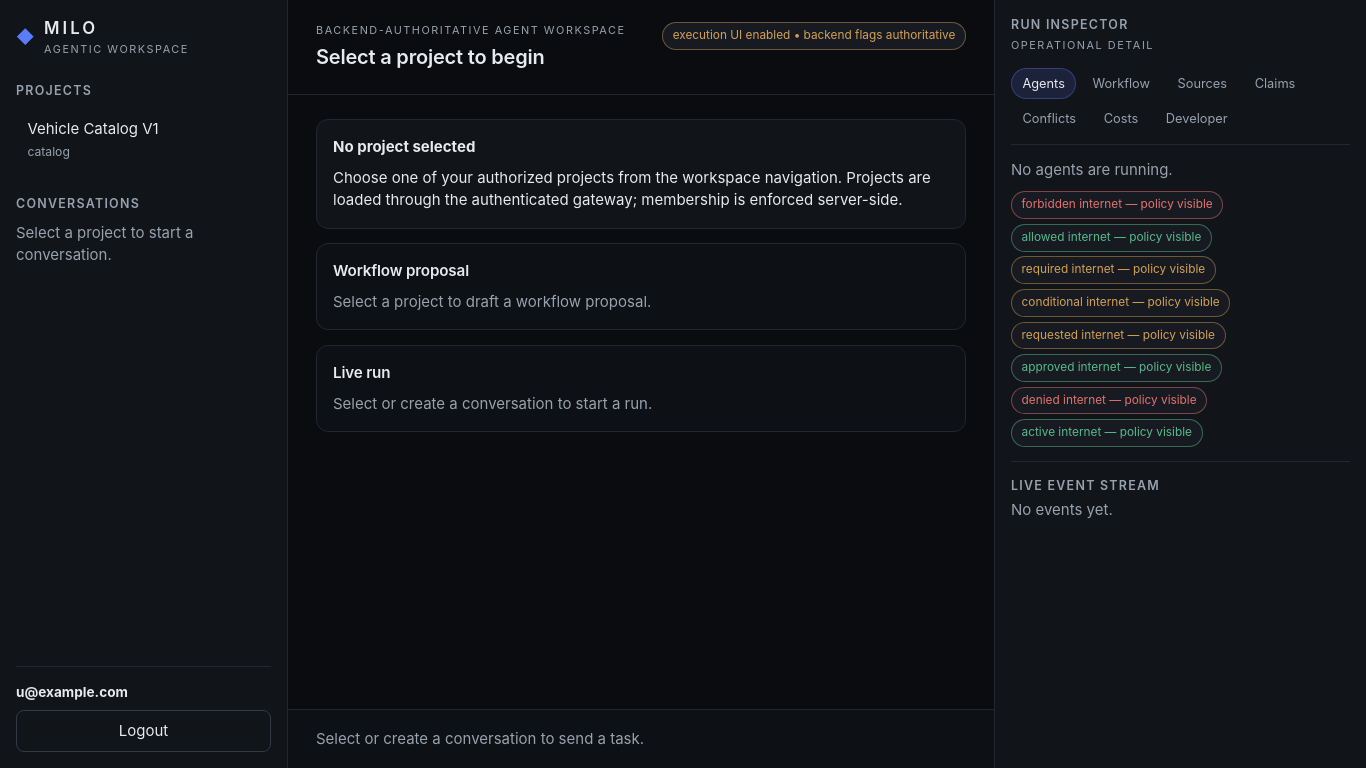
Scenario: result-surface routing › 3. workflow identity comes from the RUN — a V1 run carrying a V2 payload still uses V1
The image size is (1366, 768).
Click the text "Vehicle Catalog V1".
click(93, 128)  # box [27, 119, 159, 138]
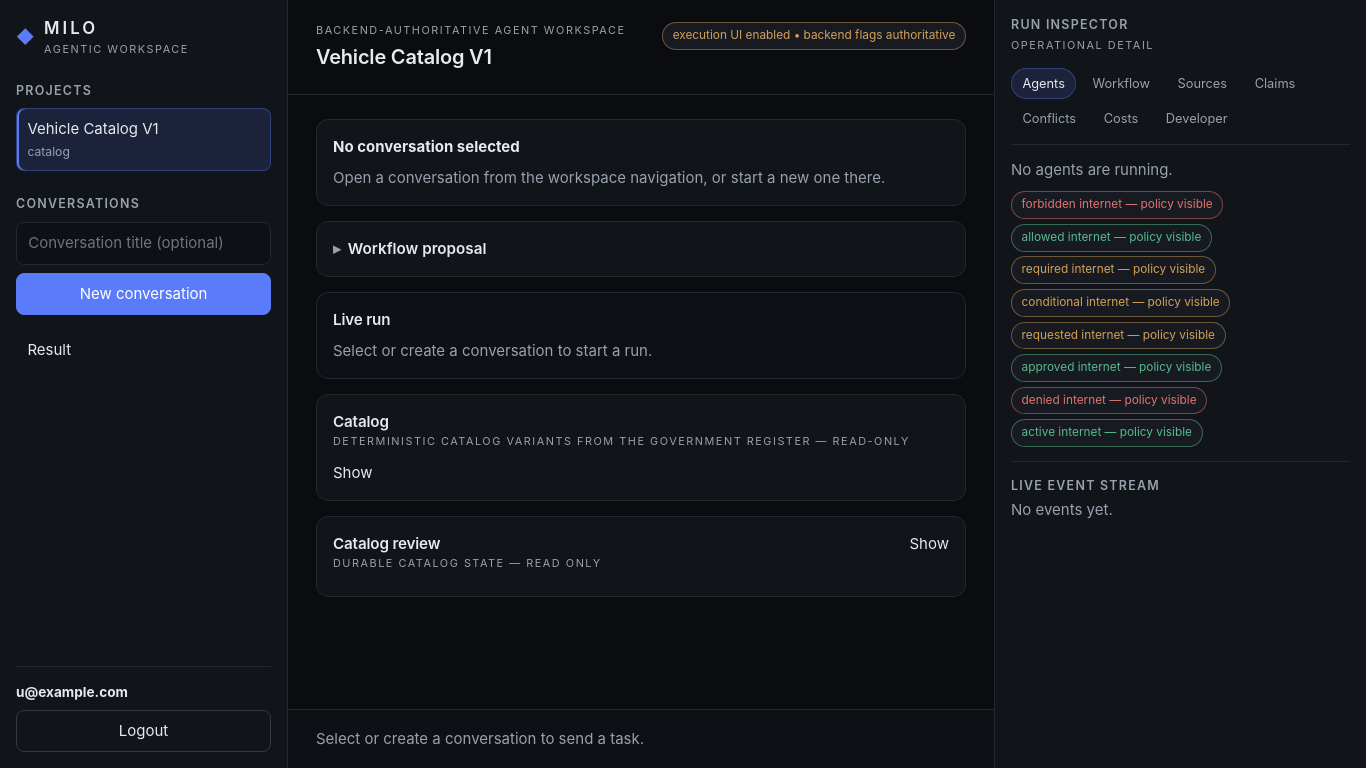
Click the button "Result".
click(144, 350)  # box [16, 329, 271, 371]
(page scrolled)
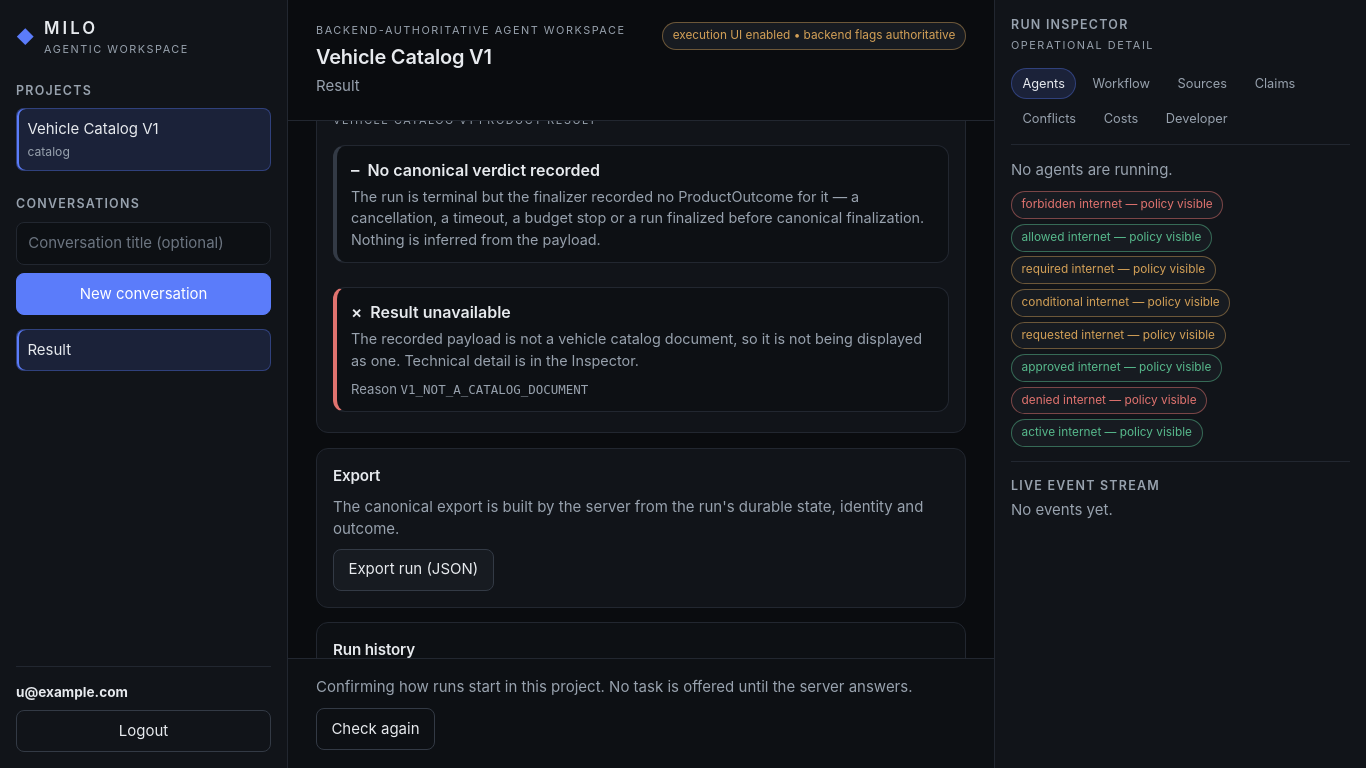
expect the text "Result unavailable" is shown: met, box [370, 300, 511, 324]
expect the text "V1_NOT_A_CATALOG_DOCUMENT" is shown: met, box [401, 382, 588, 397]
